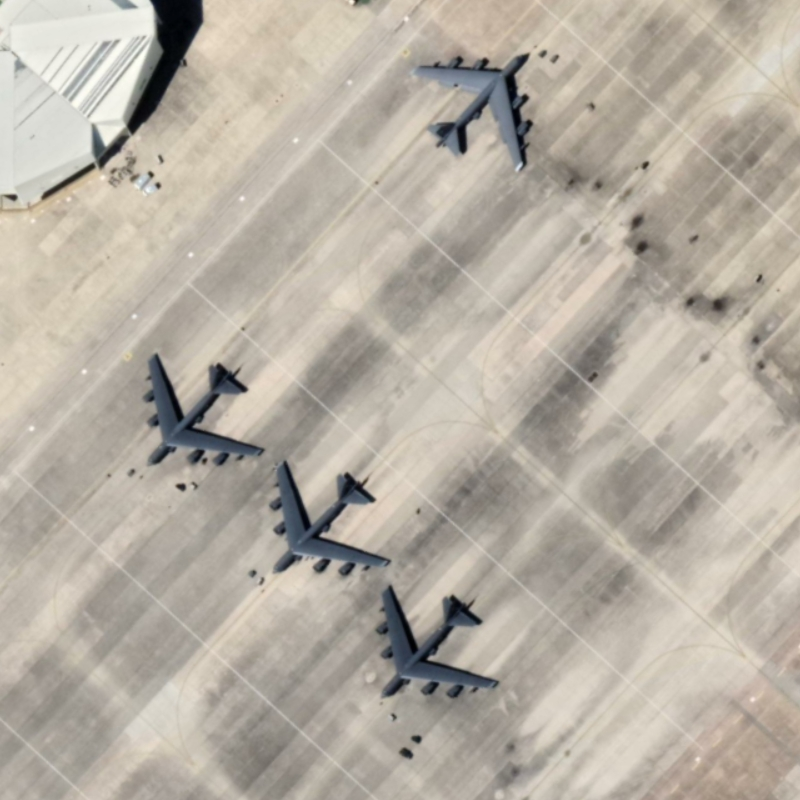A8: (399, 42, 538, 179), (362, 581, 504, 710), (134, 341, 269, 474), (265, 454, 394, 582)
